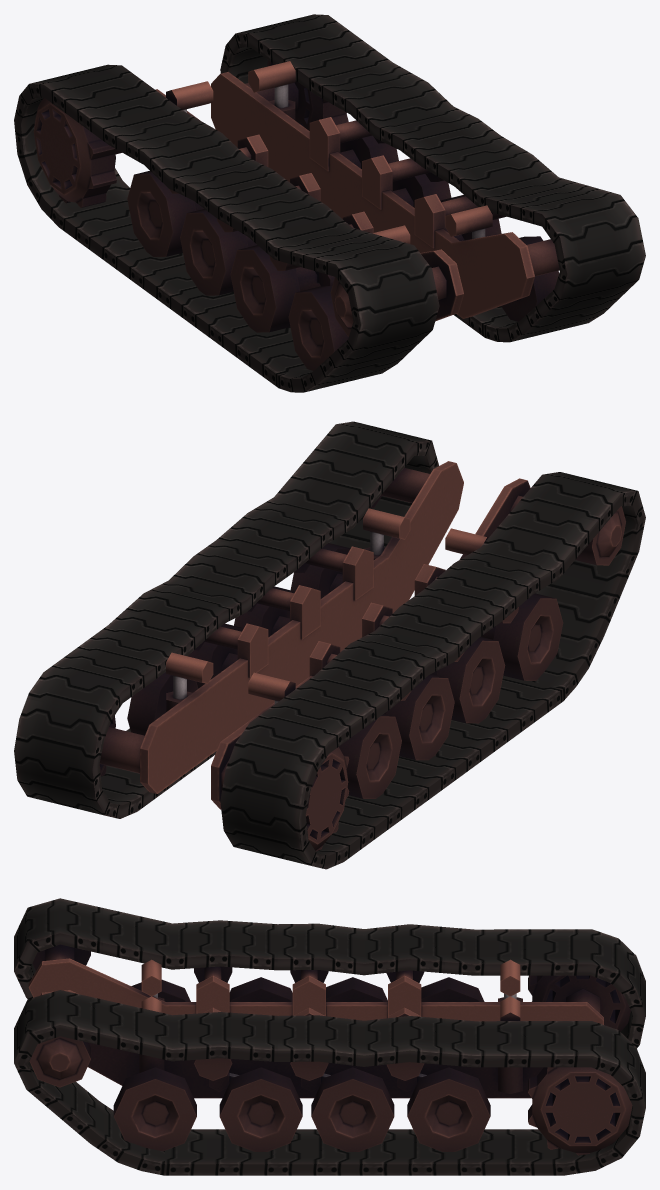
File: Tank_track_v1.FBX
3 renders of one model, top to bottom at view 1: azimuth 30°, elevation 25°; view 2: azimuth 150°, elevation 25°; view 3: azimuth 270°, elevation 25°, orthographic. The views are drawn at different scales.
Parts seen in each view (by area): view 1: Tank_track_v1_caterpillar_R, Tank_track_v1_caterpillar_L, Tank_track_v1_L, Tank_track_v1_R, Tank_track_v1_S1_R, Tank_track_v1_S1_L; view 2: Tank_track_v1_caterpillar_R, Tank_track_v1_caterpillar_L, Tank_track_v1_L, Tank_track_v1_R, Tank_track_v1_S1_R; view 3: Tank_track_v1_caterpillar_L, Tank_track_v1_L, Tank_track_v1_caterpillar_R, Tank_track_v1_R, Tank_track_v1_S1_L, Tank_track_v1_S1_R.
Part boxes in pixels (x1,y1,x2,y2): Tank_track_v1_caterpillar_R: [14, 64, 439, 392]; Tank_track_v1_caterpillar_L: [220, 14, 645, 342]; Tank_track_v1_L: [211, 61, 559, 321]; Tank_track_v1_R: [115, 81, 463, 370]; Tank_track_v1_S1_R: [33, 98, 116, 207]; Tank_track_v1_S1_L: [267, 60, 348, 130]; Tank_track_v1_caterpillar_R: [220, 472, 645, 869]; Tank_track_v1_caterpillar_L: [14, 421, 438, 818]; Tank_track_v1_L: [99, 461, 463, 793]; Tank_track_v1_R: [211, 478, 625, 809]; Tank_track_v1_S1_R: [305, 747, 349, 851]; Tank_track_v1_caterpillar_L: [14, 990, 645, 1175]; Tank_track_v1_L: [29, 990, 543, 1151]; Tank_track_v1_caterpillar_R: [14, 898, 645, 1048]; Tank_track_v1_R: [28, 944, 603, 1024]; Tank_track_v1_S1_L: [528, 1067, 632, 1155]; Tank_track_v1_S1_R: [528, 975, 630, 1031].
Bounding box in the file's own units: 2.68 × 1.49 × 5.65.
